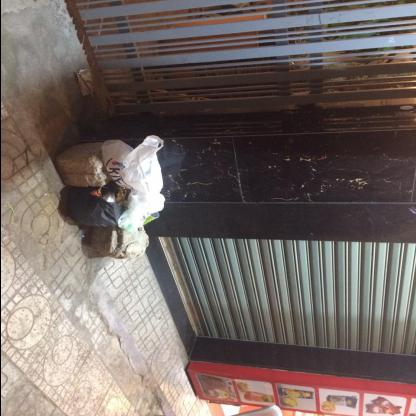karton: (142, 212, 158, 226)
plastik: (100, 138, 162, 192), (65, 188, 121, 228), (116, 191, 166, 231)
